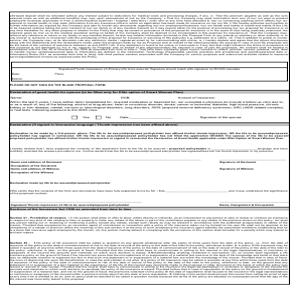text: (10, 14, 289, 60), (10, 240, 287, 281), (10, 92, 286, 122), (11, 214, 288, 234), (9, 130, 289, 142), (9, 144, 289, 153), (11, 187, 289, 196), (57, 66, 245, 72), (10, 159, 68, 176), (9, 81, 109, 89), (9, 179, 112, 186), (220, 158, 261, 174), (10, 72, 68, 81)
